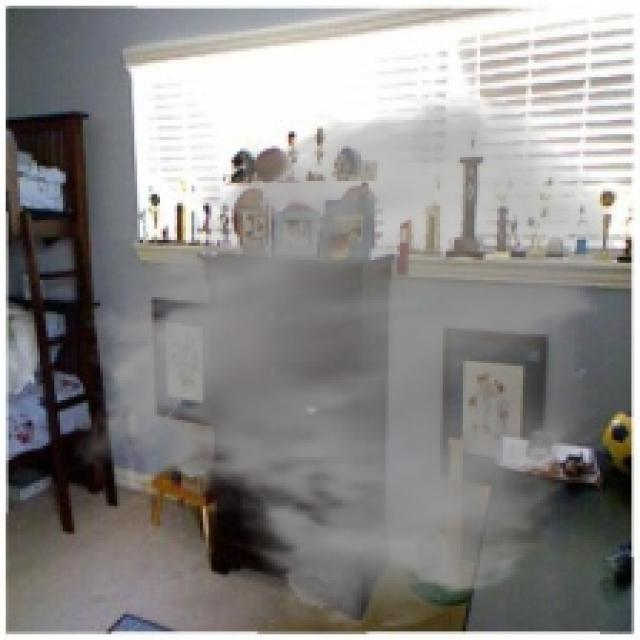Smoke: (71, 91, 623, 634)
